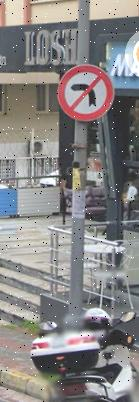leftturnsareforbidden: (58, 63, 114, 121)
